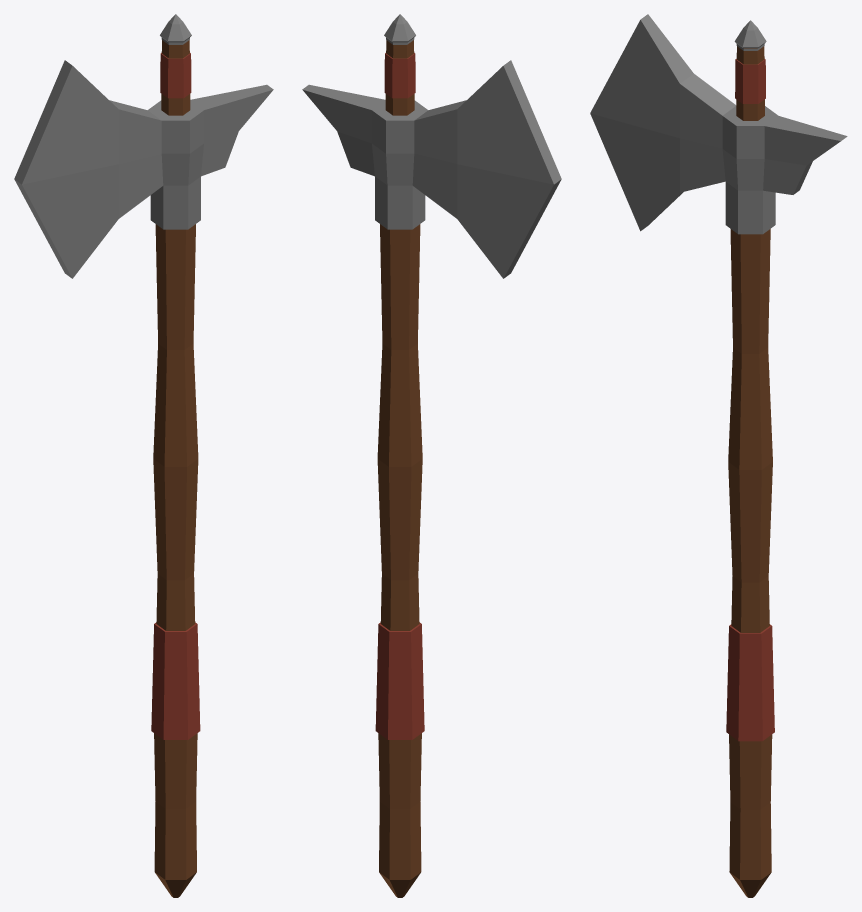
The model's file is PoleAxe.fbx.
The picture shows the model from 3 angles, left to right: view 1: azimuth 30°, elevation 25°; view 2: azimuth 150°, elevation 25°; view 3: azimuth 330°, elevation 25°; orthographic projection.
Visible parts, largest first — view 1: Cylinder; view 2: Cylinder; view 3: Cylinder.
Part boxes in pixels (x1,y1,x2,y2): Cylinder: (14, 14, 273, 897); Cylinder: (302, 14, 561, 897); Cylinder: (590, 14, 847, 897).
Bounding box in the file's own units: 85.21 × 285 × 16.53.
